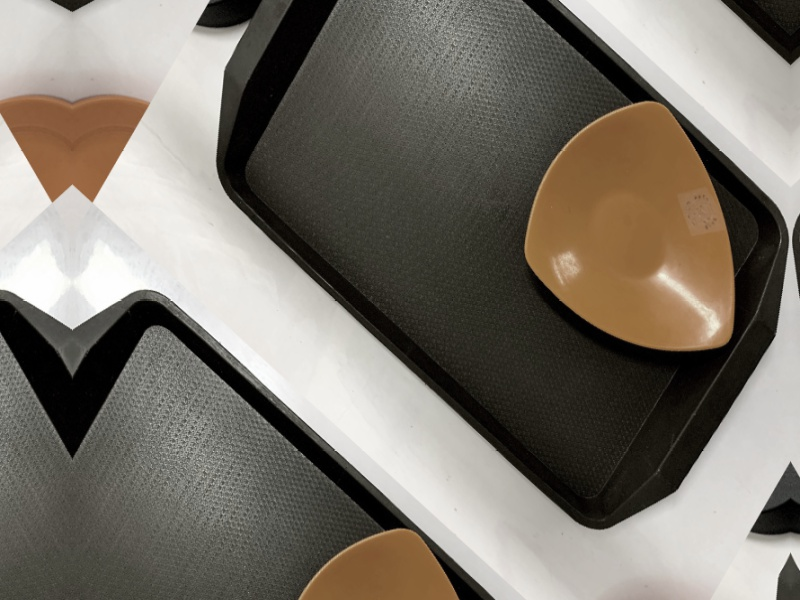dish11: (494, 51, 799, 425)
